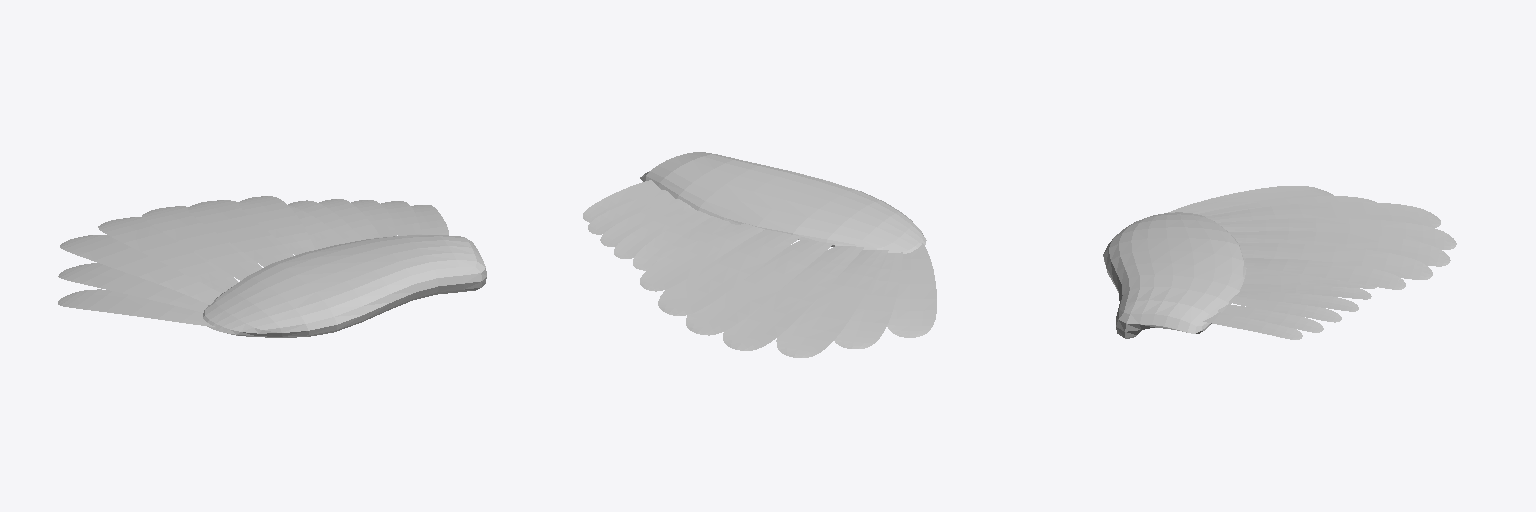
The model's file is CuckoAlaL.obj.
3 renders of one model, left to right at view 1: azimuth 30°, elevation 25°; view 2: azimuth 150°, elevation 25°; view 3: azimuth 270°, elevation 25°, orthographic.
Visible parts, largest first — view 1: Izq_wing.001; view 2: Izq_wing.001; view 3: Izq_wing.001.
Boxes of the visible parts, box(x1,y1,x2,y2) form: Izq_wing.001: box(58, 196, 486, 337); Izq_wing.001: box(583, 152, 936, 357); Izq_wing.001: box(1103, 186, 1456, 339).
Size of the model in its own units: 3.35 by 0.3791 by 2.86.